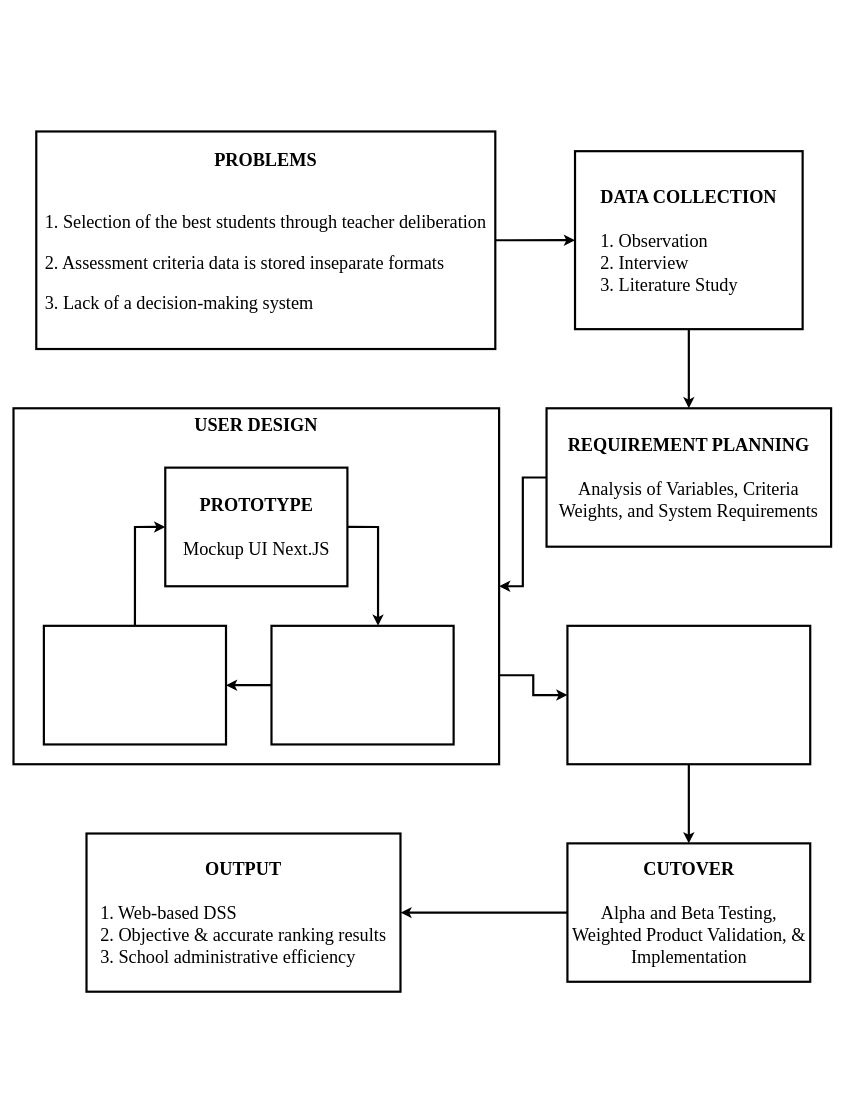
Image size: 845x1113. Some labels were removed from this diagram. The shapes that lost their labels are listed below. From the top down, each one's centre as x and y in pixels, then its label:
At point (134, 684): "REFINE Design Improvements".
At point (362, 684): "TEST User Testing".
At point (688, 694): "CONSTRUCTION Development Stack: Next.js, TypeScript, & PostgreSQL".
